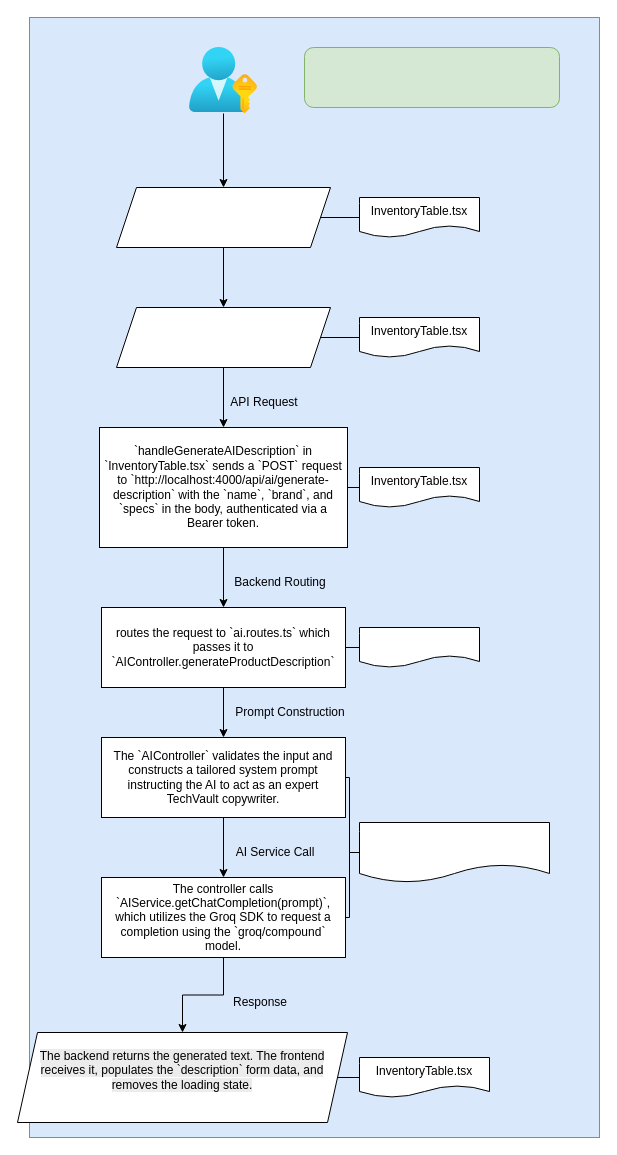
This 617x1155 diagram has some shape labels left out. The shapes that lost their labels are listed below. From the top down, each one's centre as x and y in pixels, then its label:
At pixel 432 77: "AI Generated Product Description Workflow".
At pixel 223 217: "Enters (Product Name, Brand, Technical Specifications)".
At pixel 223 337: "Clicks the 'AI Suggest' button".
At pixel 419 647: "backend/app.ts".
At pixel 454 852: "backend/controllers/ai.controller.ts".
